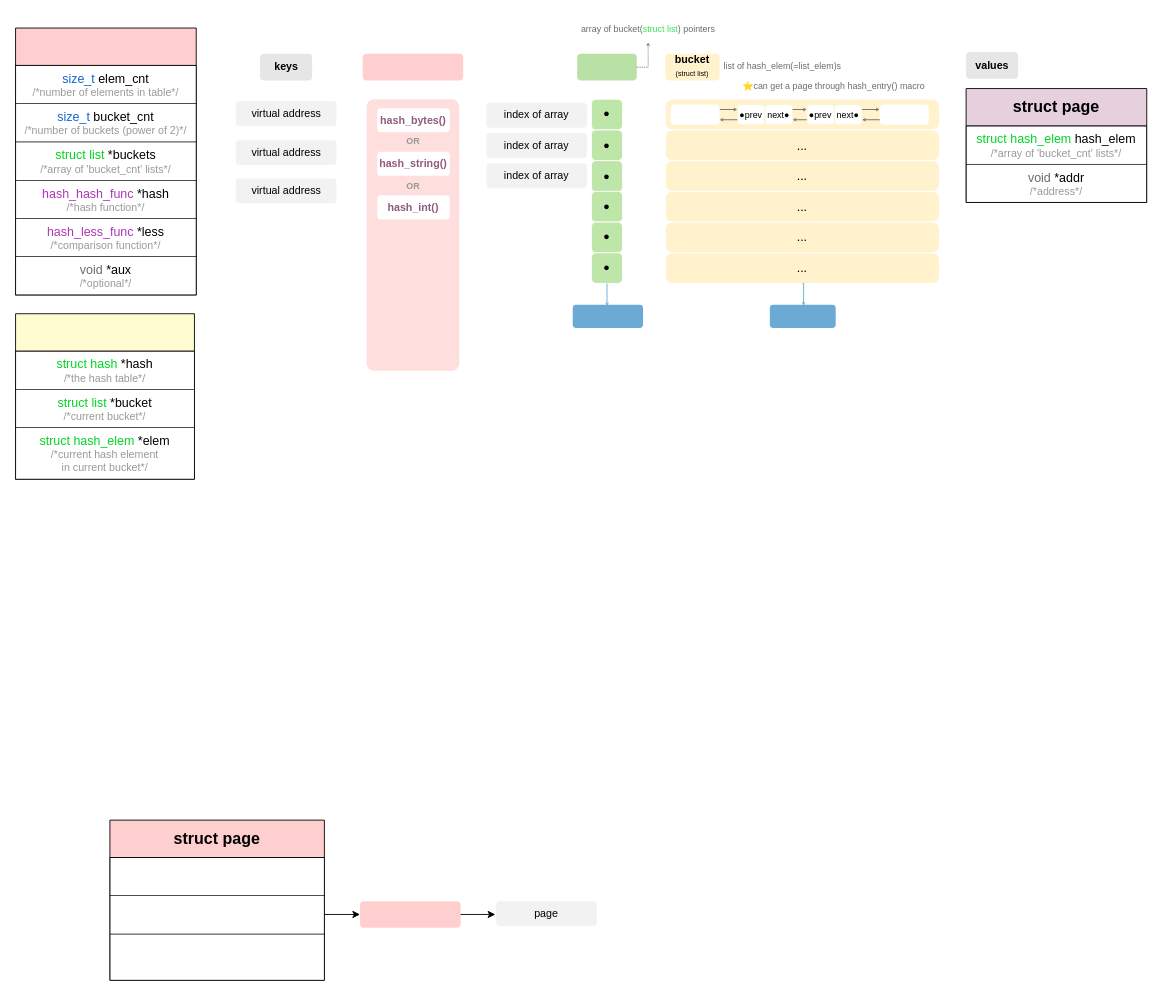
Image size: 1162x996. Some labels were removed from this diagram. Each missing label, with the box of its shape:
bucket_cnt: (572, 304, 643, 328)
buckets: (577, 53, 636, 80)
const struct page_operations *operations: (109, 933, 324, 980)
elem_cnt: (769, 304, 835, 328)
hash (function): (362, 53, 463, 80)
hash_entry: (360, 901, 460, 927)
head: (670, 104, 719, 124)
struct hash: (15, 27, 196, 295)
struct hash_elem hash_elem /*gitbook 참고해서 추가함*/: (109, 895, 324, 934)
struct hash_iterator: (15, 313, 194, 479)
tail: (879, 104, 928, 124)
void *va /*address in terms of user space*/: (109, 857, 324, 896)
